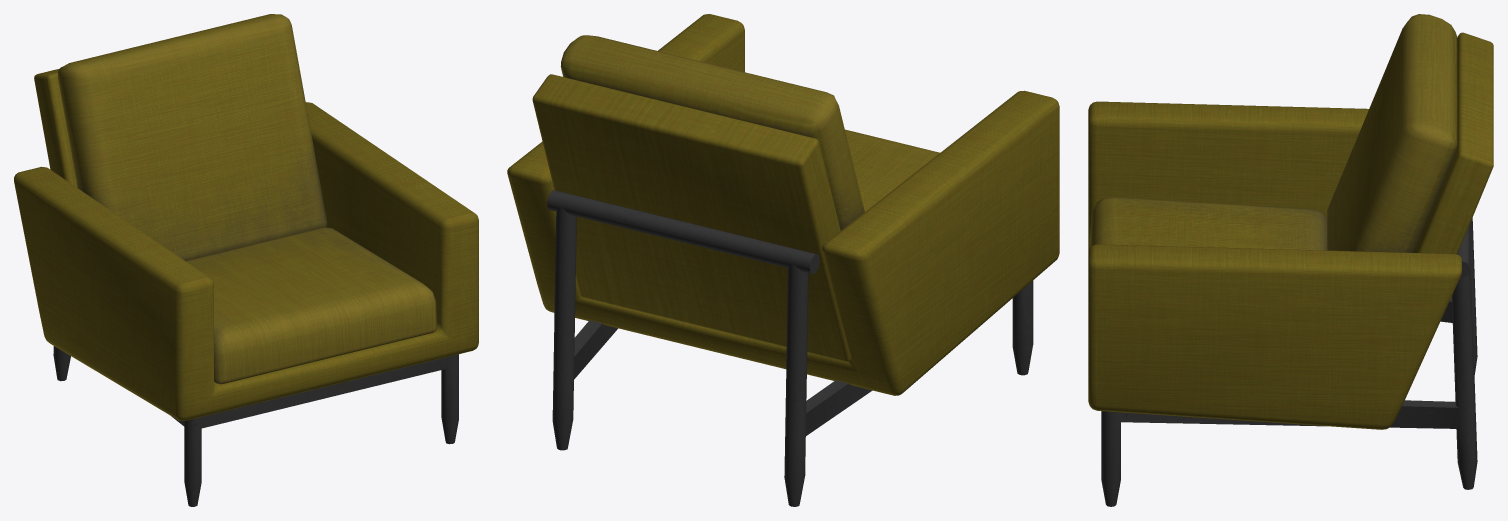
File: armchair.glb
The picture shows the model from 3 angles, left to right: view 1: azimuth 30°, elevation 25°; view 2: azimuth 150°, elevation 25°; view 3: azimuth 270°, elevation 25°; orthographic projection. The views are drawn at different scales.
Parts seen in each view (by area): view 1: Body, Pillow2, Pillow1, Legs, BackBody; view 2: Body, BackBody, Pillow2, Legs, Plank, Pillow1; view 3: Body, Pillow2, Pillow1, Legs, BackBody.
Part boxes in pixels (x1,y1,x2,y2): Body: (14, 102, 478, 420); Pillow2: (57, 14, 327, 260); Pillow1: (185, 227, 436, 384); Legs: (53, 346, 458, 506); BackBody: (34, 68, 77, 187); Body: (507, 14, 1059, 395); BackBody: (532, 74, 851, 361); Pillow2: (560, 35, 864, 230); Legs: (552, 208, 1033, 506); Plank: (547, 190, 819, 273); Pillow1: (845, 129, 939, 211); Body: (1088, 101, 1461, 429); Pillow2: (1327, 14, 1457, 252); Pillow1: (1089, 197, 1327, 250); Legs: (1101, 218, 1477, 506); BackBody: (1414, 32, 1493, 254).
Size of the model in its own units: 0.9843 by 1.03 by 1.04.
Materials: 1 (1 with a texture image).
